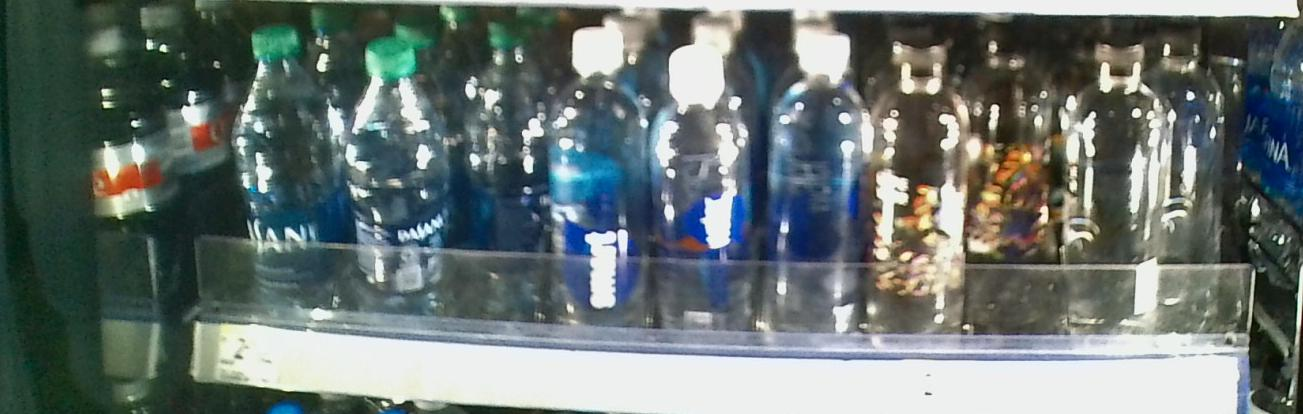bottle: (773, 10, 873, 343), (234, 25, 343, 307), (551, 25, 649, 338), (656, 41, 755, 341), (1066, 38, 1162, 333), (348, 34, 447, 317), (461, 21, 547, 324), (970, 33, 1056, 325), (881, 33, 957, 345)
